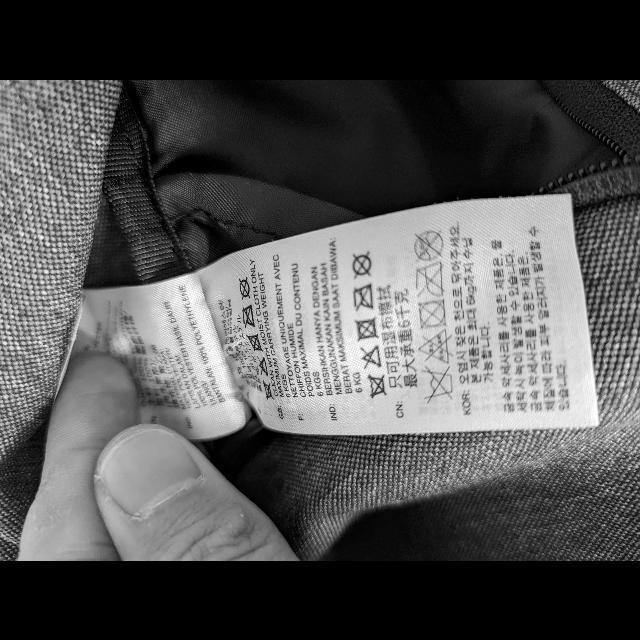DN_bleach: (416, 326, 454, 366), (358, 344, 384, 370), (256, 355, 270, 377)
DN_dry_clean: (414, 227, 446, 263), (351, 249, 374, 279), (238, 276, 252, 300)
DN_iron: (413, 260, 447, 298), (348, 280, 376, 312), (240, 303, 256, 329)
DN_tumble_dry: (414, 296, 450, 330), (354, 316, 381, 342), (246, 333, 264, 353)
DN_wash: (420, 364, 456, 406), (368, 372, 388, 400), (262, 379, 274, 401)
